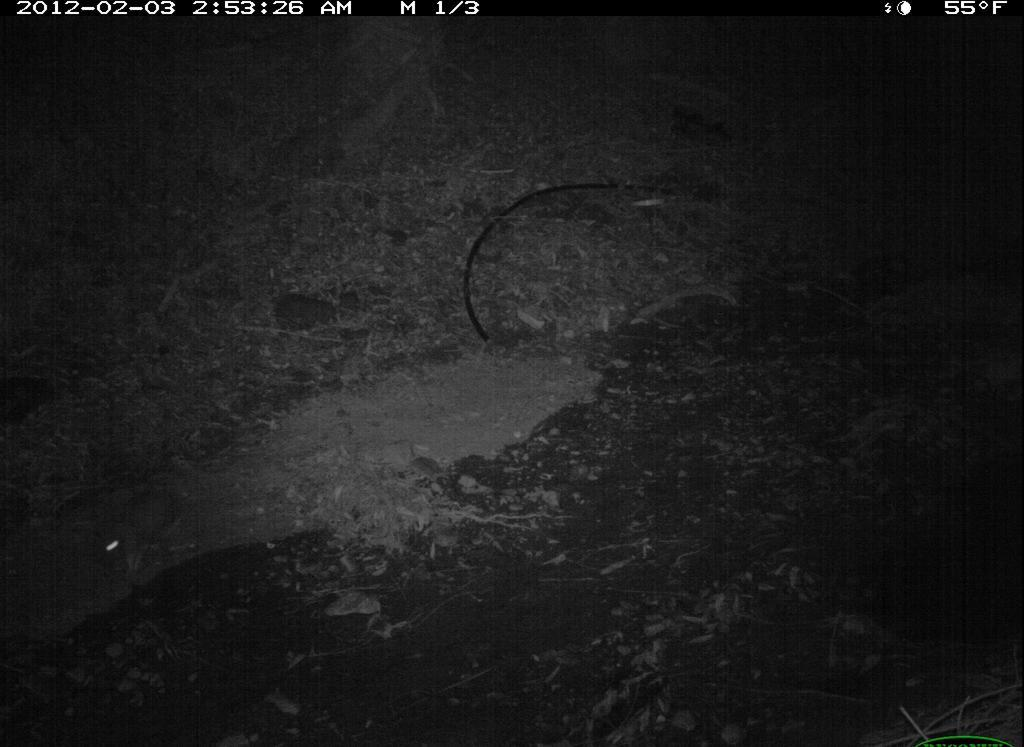rabbit: (94, 460, 187, 580)
